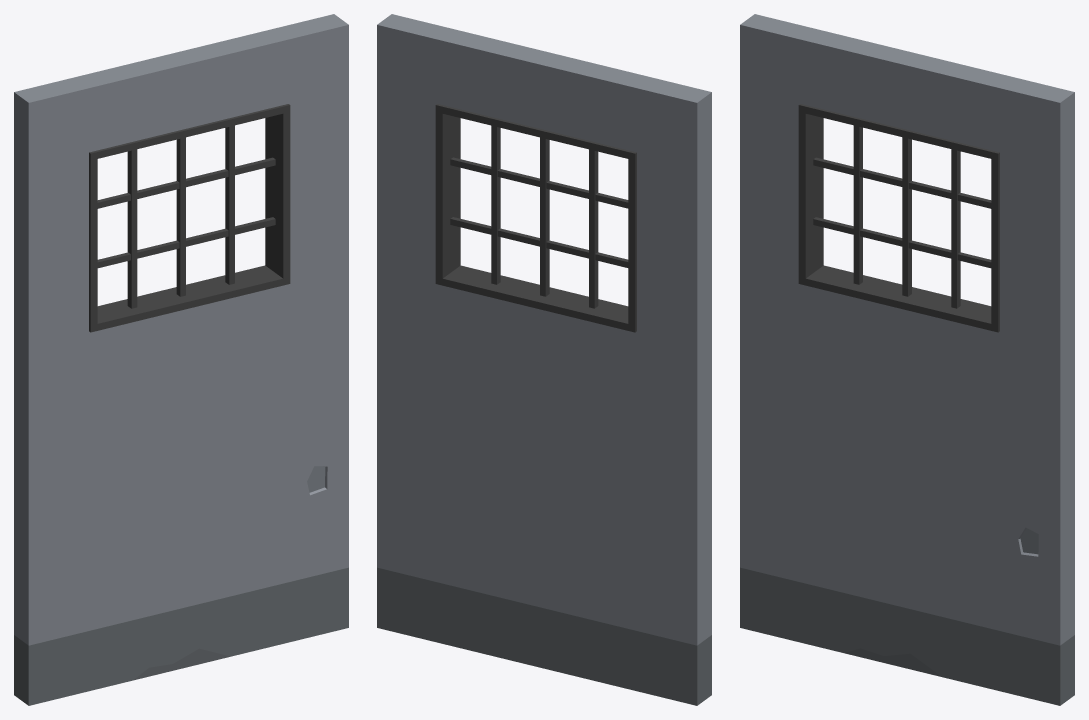
The model's file is Wall3_03.fbx.
3 views of the same model, side by side, from view 1: azimuth 30°, elevation 25°; view 2: azimuth 150°, elevation 25°; view 3: azimuth 330°, elevation 25° (orthographic).
Visible parts, largest first — view 1: Wall3_03; view 2: Wall3_03; view 3: Wall3_03.
Boxes of the visible parts, x1,y1,x2,y2 form: Wall3_03: (14,14,348,705); Wall3_03: (377,14,711,705); Wall3_03: (740,14,1074,705).
Bounding box in the file's own units: 500 × 900 × 48.82.
